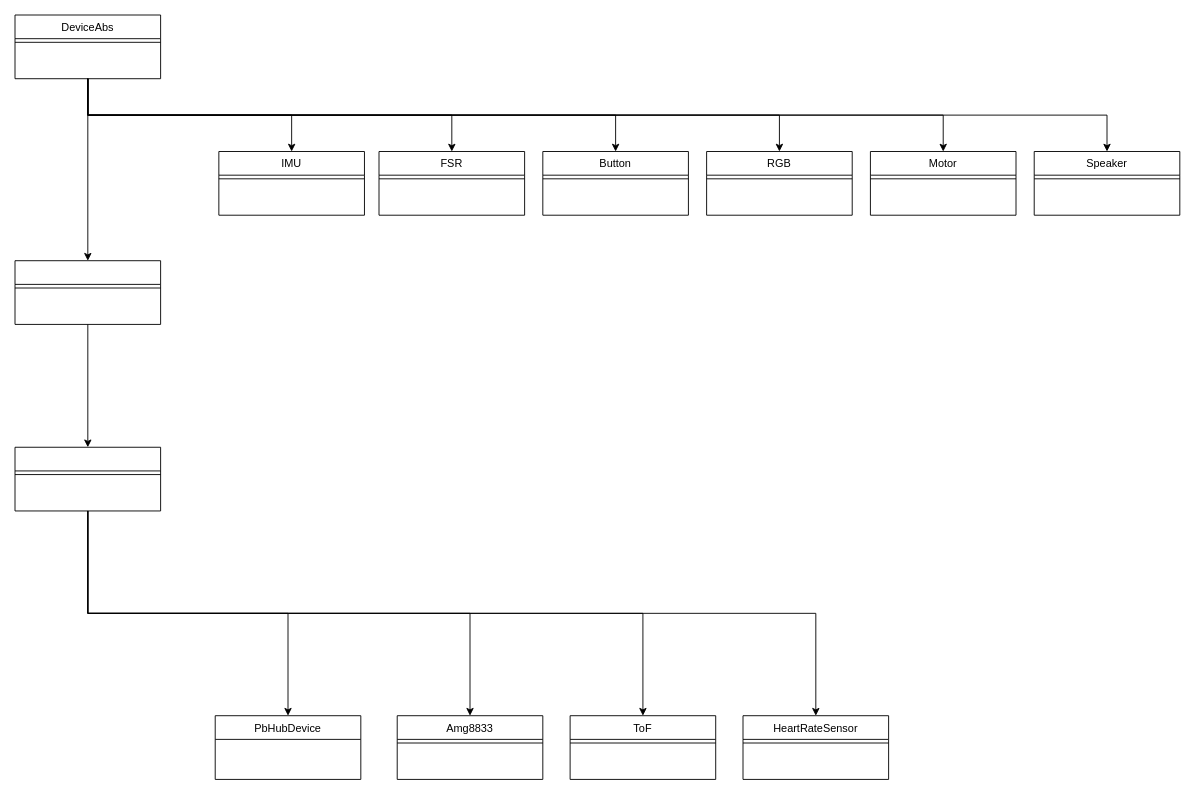
The diagram is 1195 pixels wide and 794 high, and some of its shapes have lost their labels. Here are the shapes that lost their labels. From the top down, the box of each, then its label:
(14, 260, 161, 324): I2CDevicesAbs
(14, 446, 161, 511): PaHubDeviceAbs
